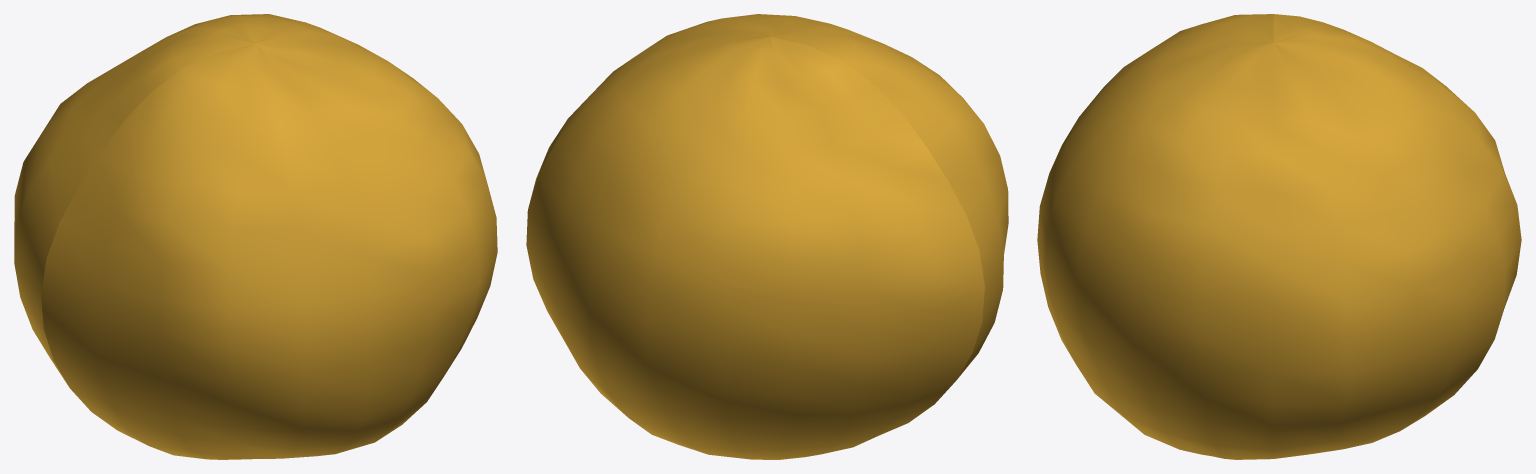
Rendered from orange.glb.
3 renders of one model, left to right at view 1: azimuth 30°, elevation 25°; view 2: azimuth 150°, elevation 25°; view 3: azimuth 270°, elevation 25°, orthographic.
Parts seen in each view (by area): view 1: orange; view 2: orange; view 3: orange.
Part boxes in pixels (x1=…): orange: x1=14, y1=14, x2=497, y2=459; orange: x1=526, y1=14, x2=1008, y2=459; orange: x1=1037, y1=14, x2=1521, y2=459.
Bounding box in the file's own units: 0.7 × 0.6344 × 0.7.
